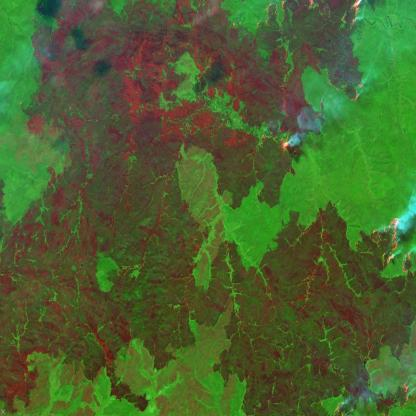fire: (232, 0, 372, 159), (355, 209, 416, 283), (315, 379, 416, 416)
